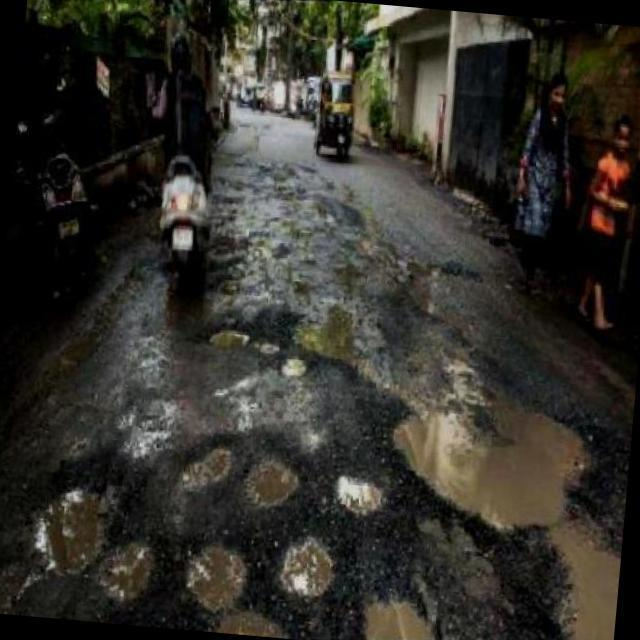Pothole: (393, 412, 620, 640), (36, 490, 107, 575), (185, 545, 247, 612), (96, 541, 156, 607), (281, 536, 334, 603), (243, 456, 298, 506), (366, 601, 436, 640), (214, 606, 292, 639), (181, 447, 230, 492), (334, 475, 381, 516), (207, 329, 249, 351), (279, 357, 306, 378)
